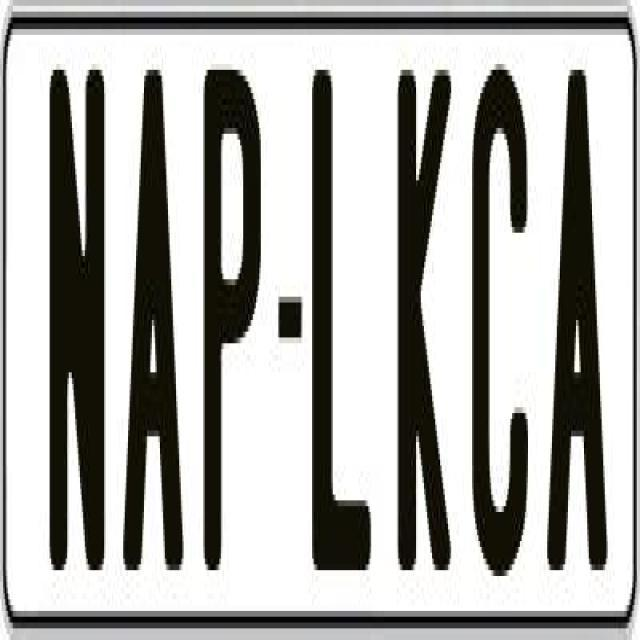A: (118, 70, 184, 594), (542, 58, 604, 559)
C: (472, 58, 536, 582)
K: (398, 70, 454, 594)
L: (310, 58, 378, 559)
N: (48, 52, 112, 558)
P: (204, 64, 266, 570)
